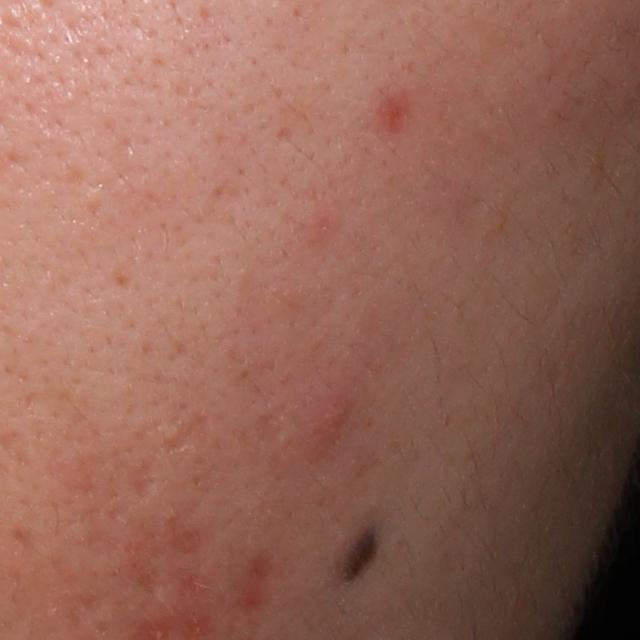atrophic_scar: (162, 411, 222, 454), (126, 447, 159, 507)
nevus: (334, 519, 381, 586)
papule: (309, 390, 357, 448)
